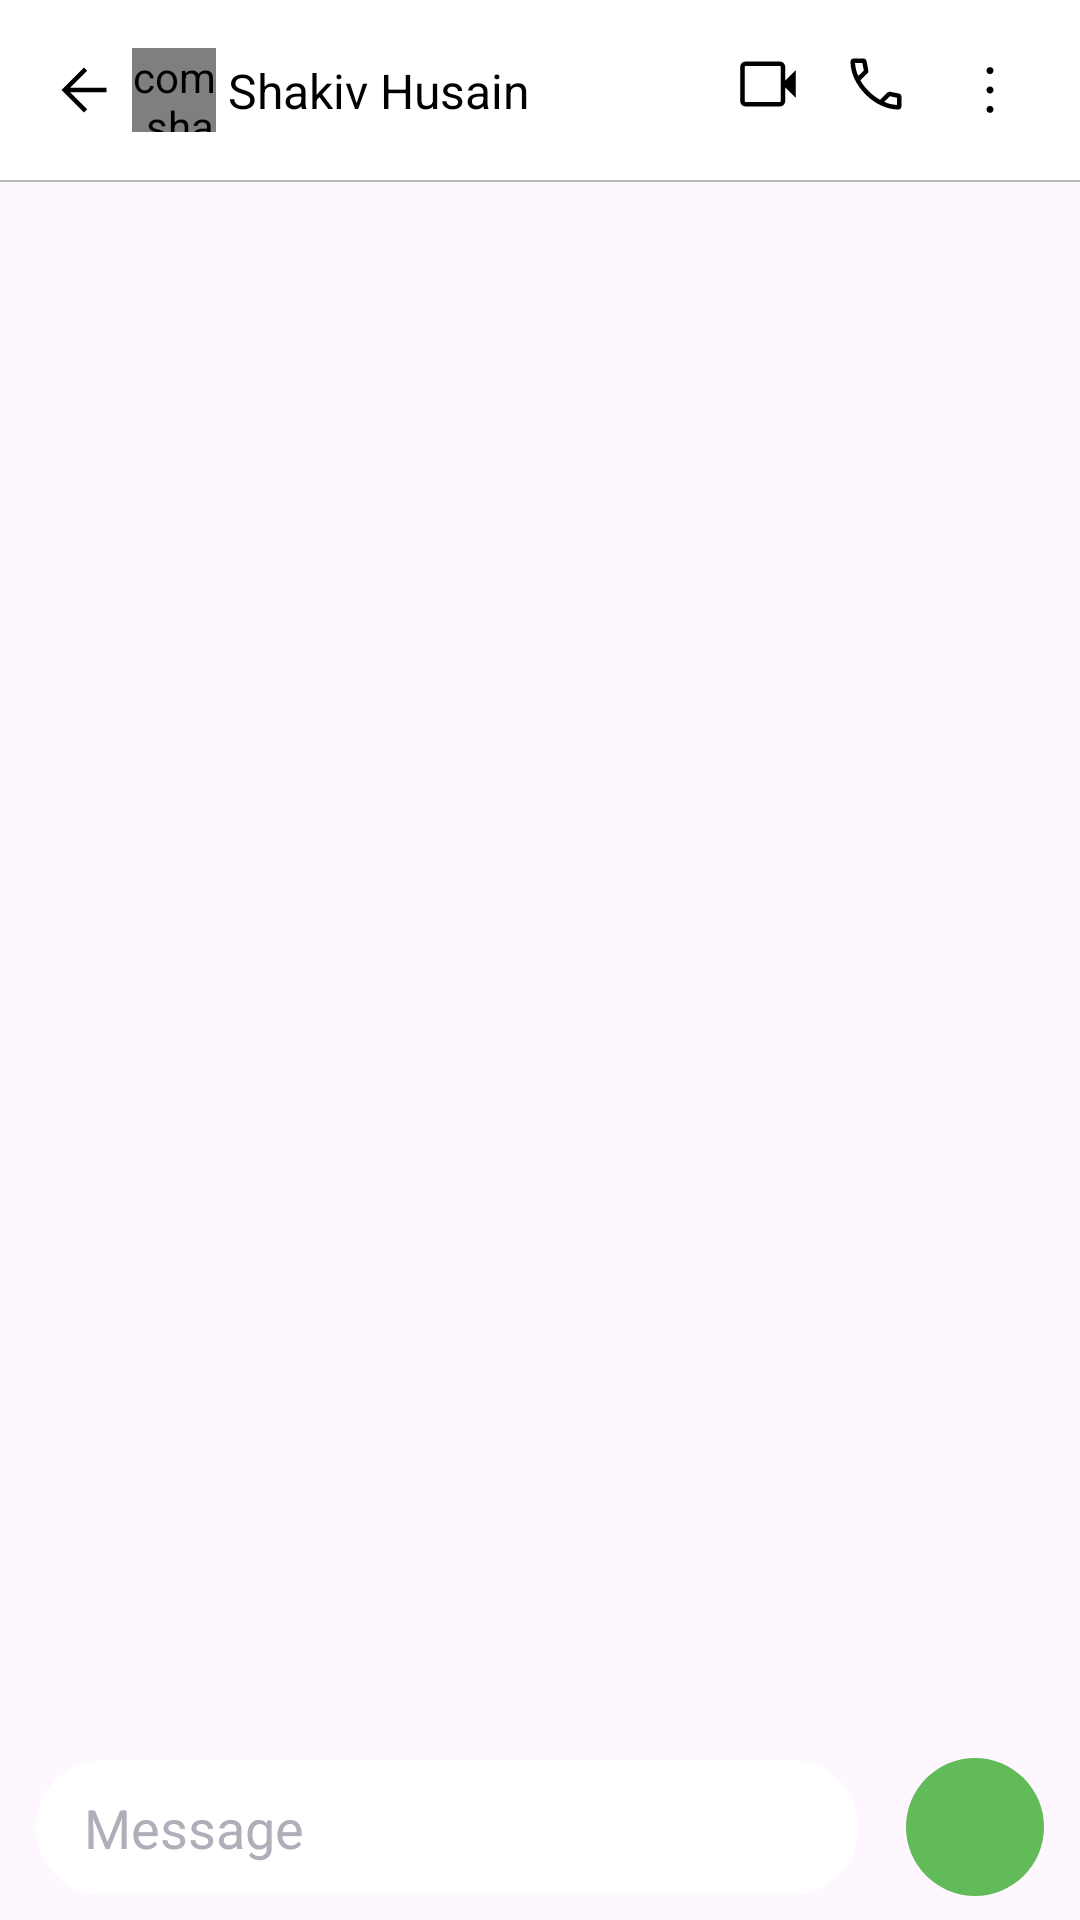

Where to tap for icons on this 1080 × 1920 app screen, as point (x, y):
back: point (84, 90)
call: point (876, 84)
vertical dots: point (990, 90)
video: point (768, 84)
